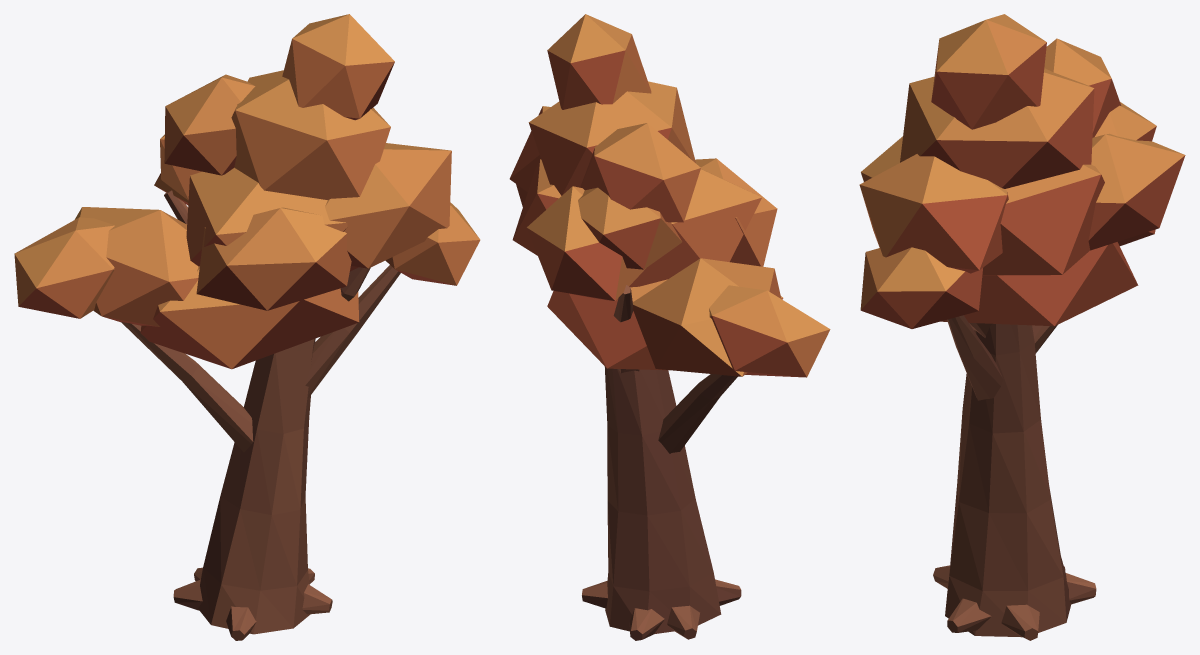
3 views of the same model, side by side, from view 1: azimuth 30°, elevation 25°; view 2: azimuth 150°, elevation 25°; view 3: azimuth 270°, elevation 25° (orthographic). The views are drawn at different scales.
Parts seen in each view (by area): view 1: WK_RegularTree_EmberMaple_LOD0_High; view 2: WK_RegularTree_EmberMaple_LOD0_High; view 3: WK_RegularTree_EmberMaple_LOD0_High.
Part boxes in pixels (left/top/right/bottom): WK_RegularTree_EmberMaple_LOD0_High: left=14, top=14, right=480, bottom=640; WK_RegularTree_EmberMaple_LOD0_High: left=509, top=14, right=830, bottom=640; WK_RegularTree_EmberMaple_LOD0_High: left=859, top=14, right=1185, bottom=640.
Size of the model in its own units: 4.33 by 6.5 by 3.01.
